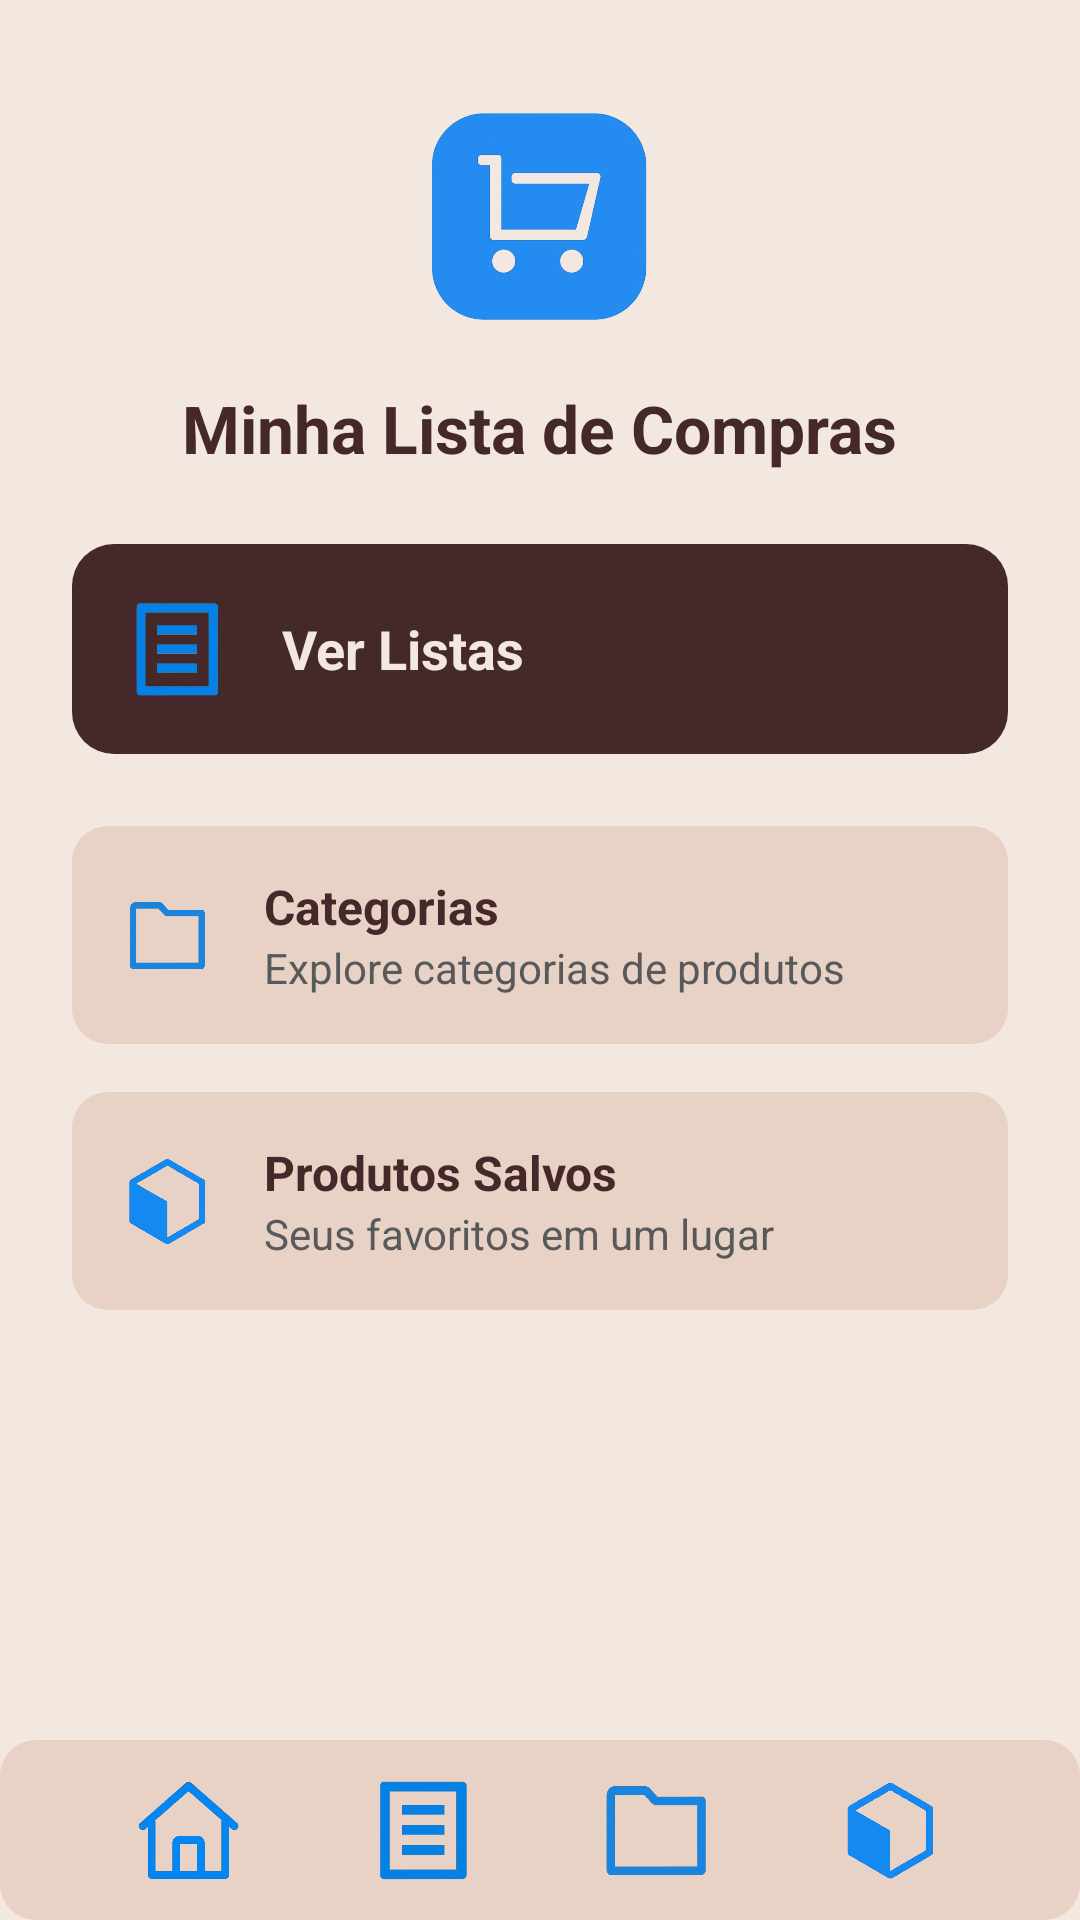

Icon bounding boxes for this 1080px×1920px phone screenshot, format box(x1, y1, x2, y2):
caixa: box(129, 1159, 205, 1244), box(847, 1783, 933, 1879)
home: box(139, 1782, 239, 1879)
pasta: box(130, 902, 205, 969), box(606, 1786, 706, 1875)
